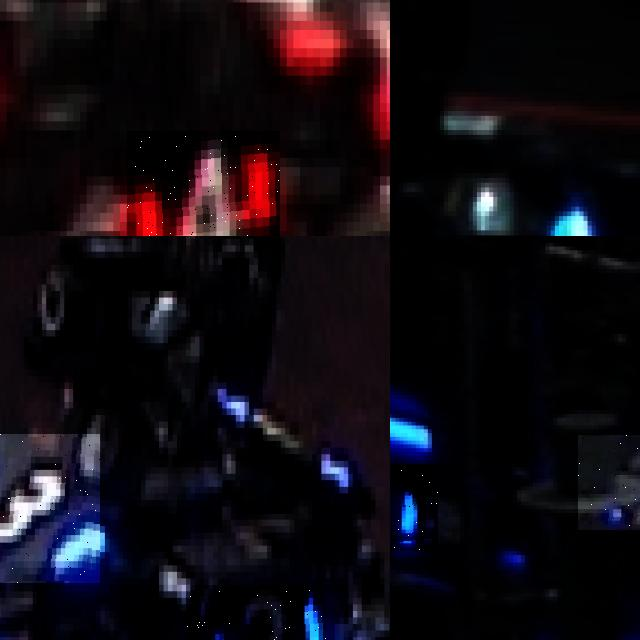B2: (577, 435, 640, 530), (390, 463, 437, 551)
B3: (0, 434, 100, 584), (186, 585, 325, 640)
R4: (126, 130, 280, 236)
